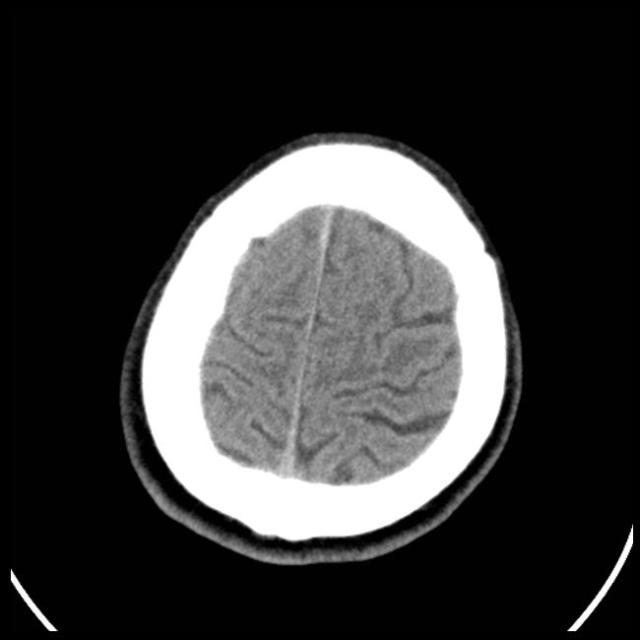lesion: (116, 126, 527, 567)
